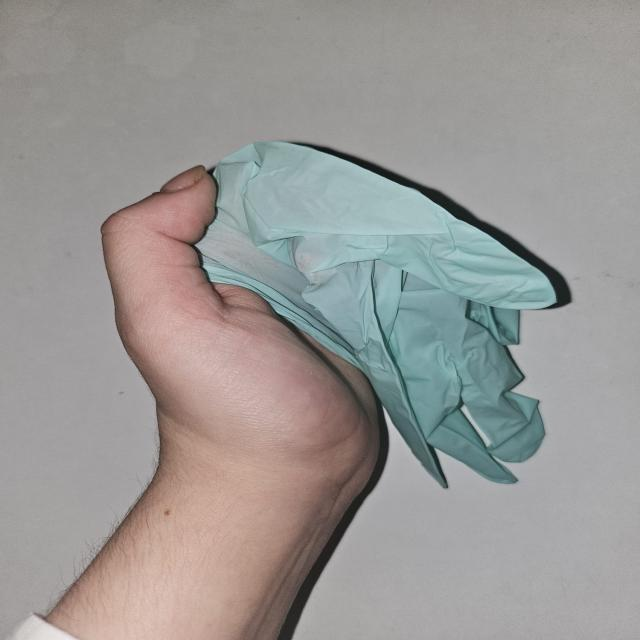glove_partial: (99, 136, 562, 489)
